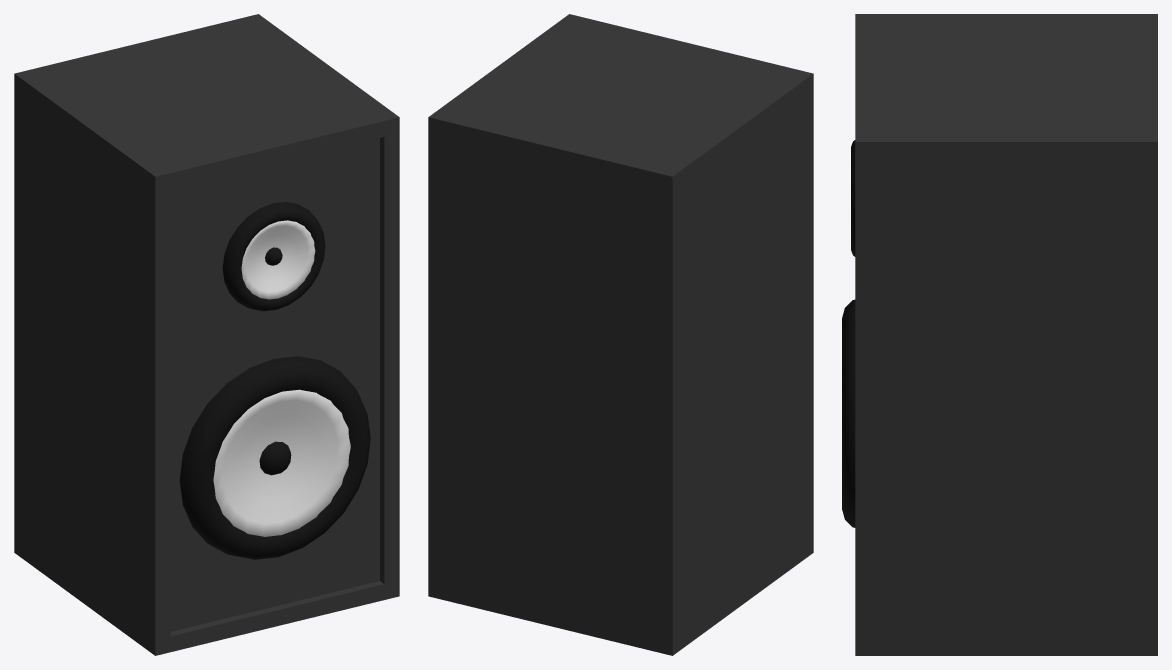
The model's file is StageSpeaker.FBX.
3 views of the same model, side by side, from view 1: azimuth 30°, elevation 25°; view 2: azimuth 150°, elevation 25°; view 3: azimuth 270°, elevation 25° (orthographic). The views are drawn at different scales.
Parts seen in each view (by area): view 1: Speaker; view 2: Speaker; view 3: Speaker.
Boxes of the visible parts, x1,y1,x2,y2 form: Speaker: (14, 14, 399, 655); Speaker: (428, 14, 813, 655); Speaker: (842, 14, 1157, 655).
Size of the model in its own units: 14.04 by 26.32 by 14.65.
